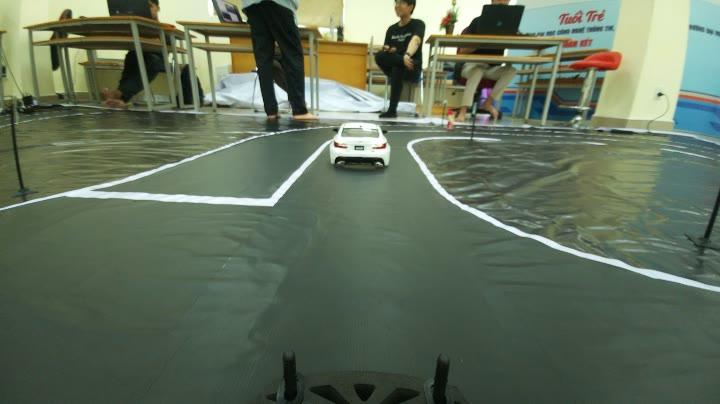car: (330, 123, 396, 174)
